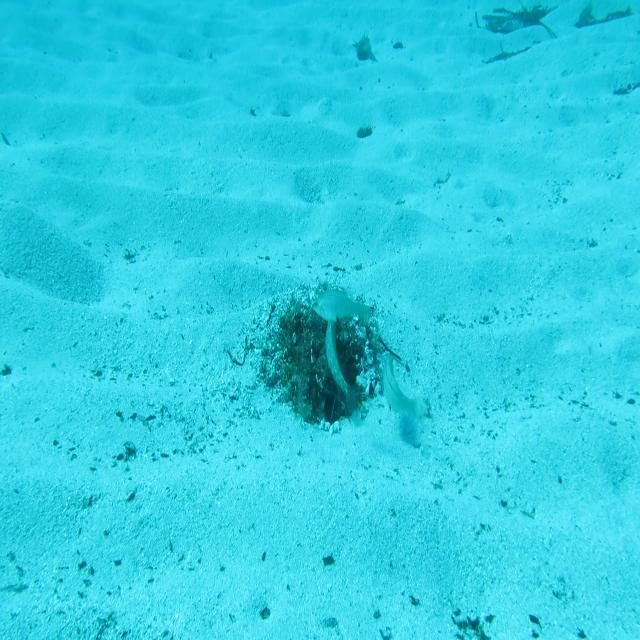SHAK: (322, 319, 360, 418)
female: (380, 349, 428, 438)
nest: (265, 289, 390, 426)
other_fish: (311, 286, 376, 326)
